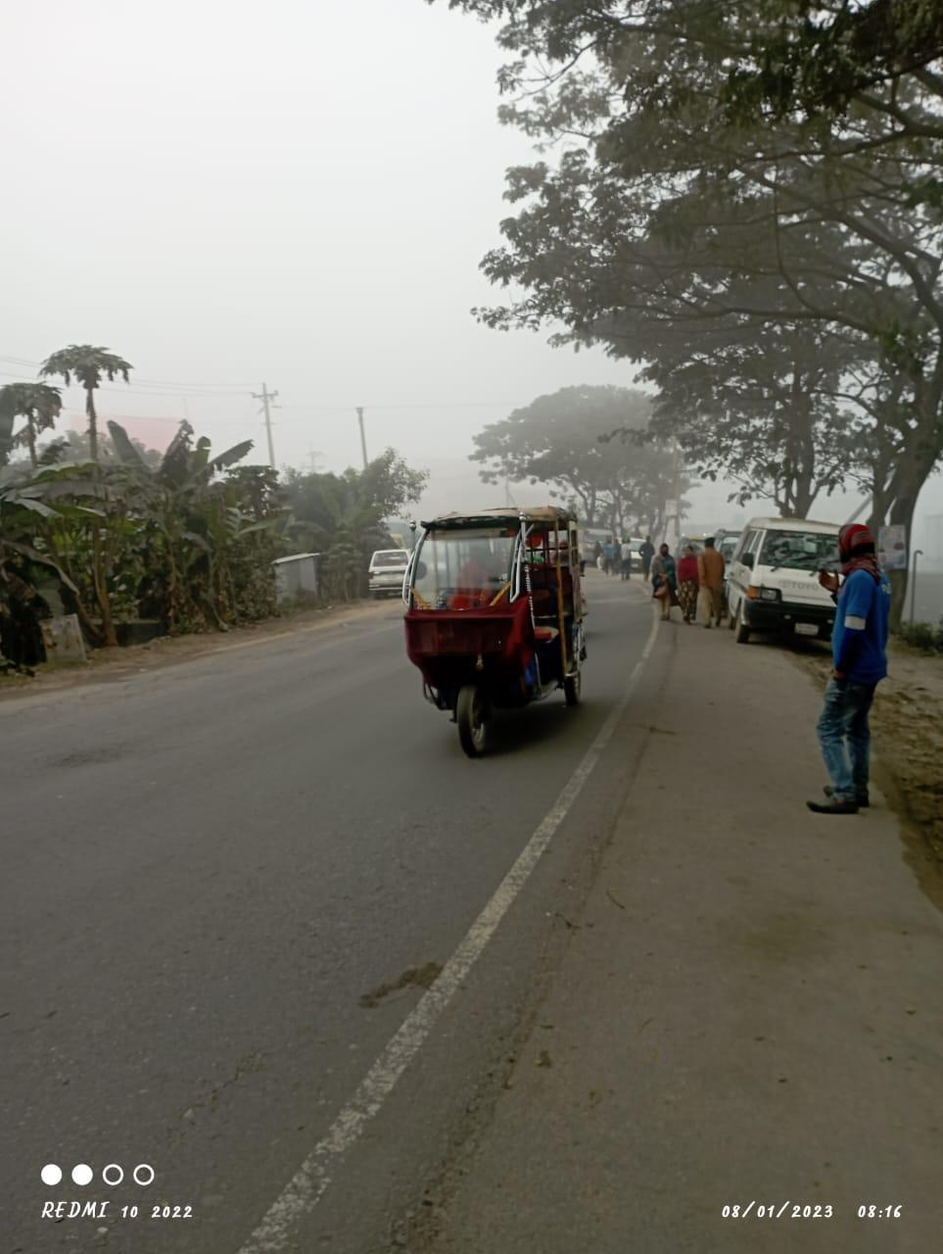Car: (400, 499, 600, 752), (722, 503, 873, 675), (356, 538, 415, 608)
